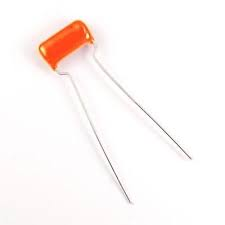ceramic capacitor: (13, 8, 127, 103)
